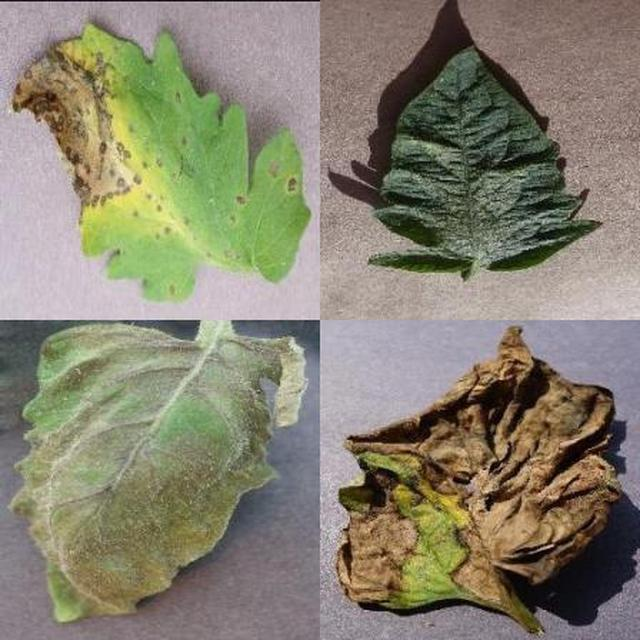Septoria Leaf: (224, 229, 640, 640)
